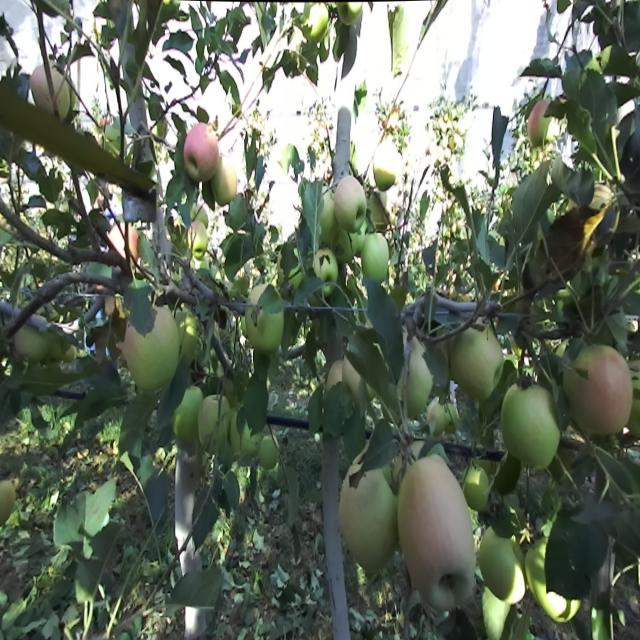apple: (396, 455, 476, 615), (337, 463, 396, 574), (564, 345, 632, 432), (501, 383, 558, 466), (124, 306, 178, 388), (526, 538, 576, 623), (452, 327, 504, 400), (479, 528, 526, 604), (245, 284, 283, 352), (402, 329, 430, 414), (31, 64, 70, 118), (183, 122, 219, 180), (334, 176, 366, 232), (198, 395, 229, 449), (173, 387, 200, 442), (361, 232, 389, 284), (106, 222, 139, 266), (230, 409, 258, 459), (14, 322, 48, 361), (175, 307, 196, 365), (464, 464, 489, 512), (313, 248, 338, 295), (213, 157, 237, 205), (374, 141, 397, 189), (528, 98, 550, 146), (304, 3, 328, 43), (343, 357, 363, 403), (369, 190, 391, 228), (332, 228, 356, 260), (0, 479, 16, 526), (188, 221, 208, 258), (321, 187, 335, 239), (260, 434, 278, 468), (336, 2, 363, 24), (427, 404, 445, 433), (326, 360, 343, 388), (446, 403, 458, 434)
